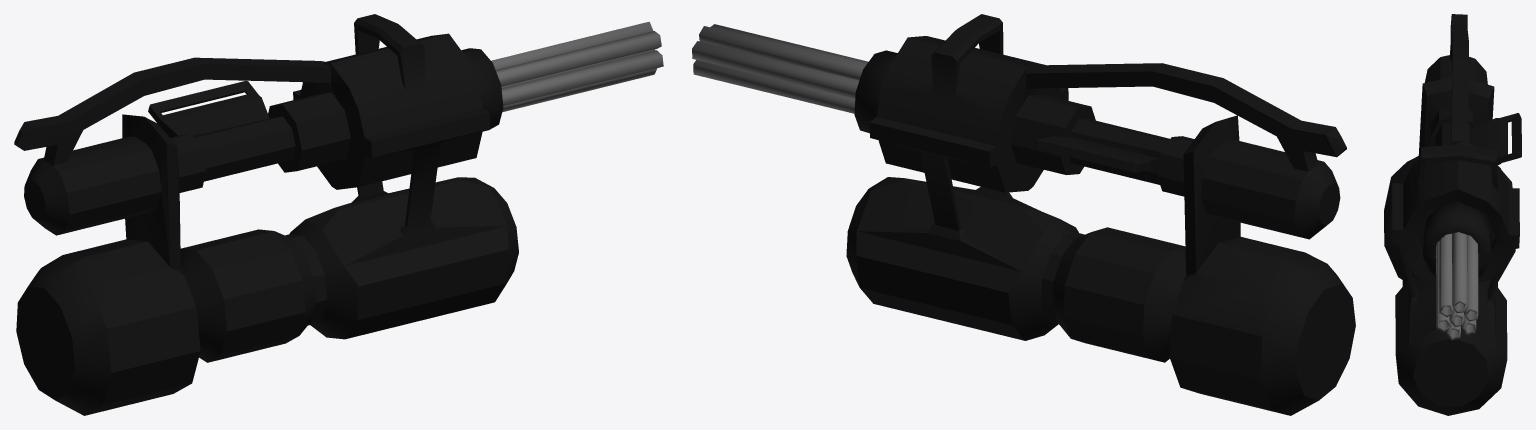
Rendered from MiniGun.gltf.
3 views of the same model, side by side, from view 1: azimuth 30°, elevation 25°; view 2: azimuth 150°, elevation 25°; view 3: azimuth 270°, elevation 25° (orthographic). The views are drawn at different scales.
Visible parts, largest first — view 1: Circle.001; view 2: Circle.001; view 3: Circle.001.
Boxes of the visible parts, <box> form: Circle.001: <box>14,14,663,415</box>; Circle.001: <box>692,14,1355,415</box>; Circle.001: <box>1384,14,1521,415</box>.
Size of the model in its own units: 1.84 by 0.8606 by 0.4254.
1 material, 1 textured.
